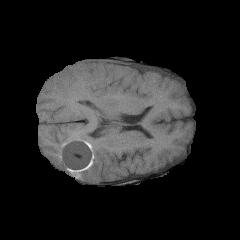glioma: (48, 67, 167, 181)
